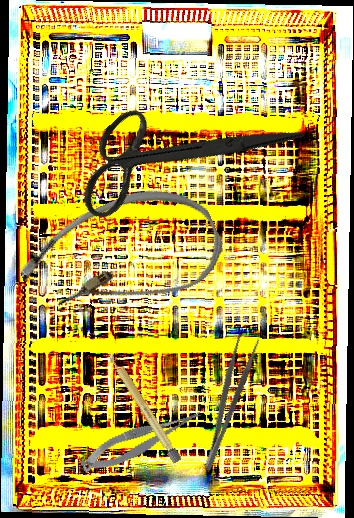Cannula: (8, 167, 234, 348)
Dressing Forceps: (189, 331, 263, 474)
Iris Scissors: (55, 31, 306, 279)
Micro Scissor: (75, 405, 209, 477)
Scalpel Handle: (105, 350, 183, 464)
